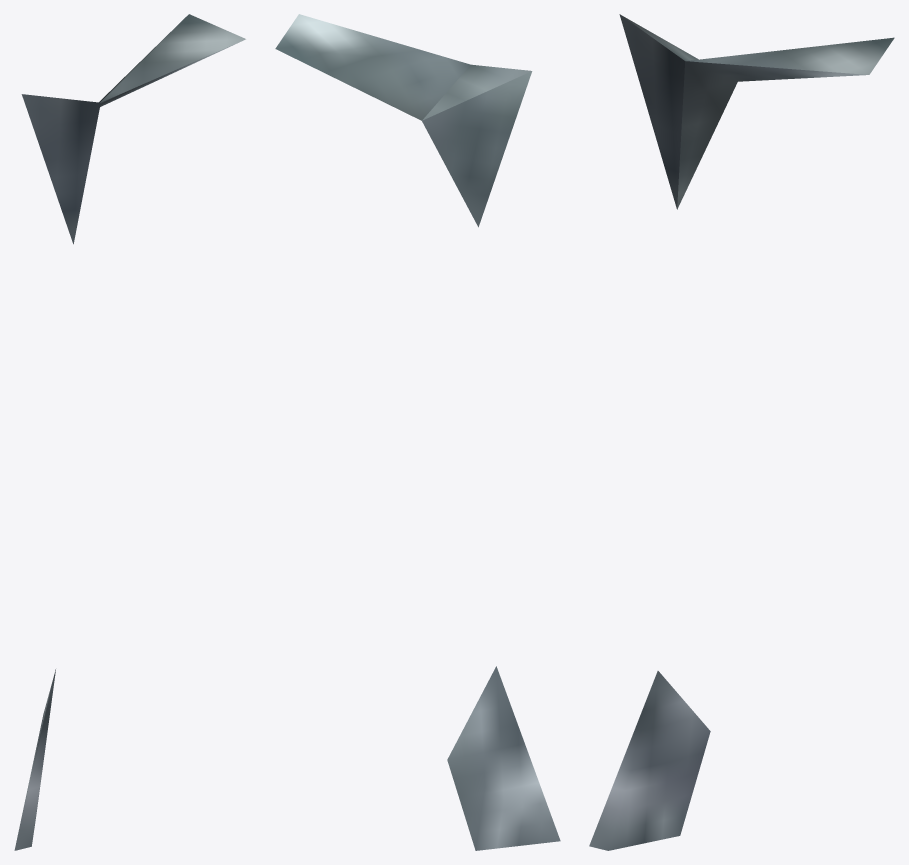
3 views of the same model, side by side, from view 1: azimuth 30°, elevation 25°; view 2: azimuth 150°, elevation 25°; view 3: azimuth 330°, elevation 25° (orthographic). The views are drawn at different scales.
Parts seen in each view (by area): view 1: 30436272704361506507_0; view 2: 30436272704361506507_0; view 3: 30436272704361506507_0.
Boxes of the visible parts, x1=… form: 30436272704361506507_0: x1=14, y1=14, x2=245, y2=850; 30436272704361506507_0: x1=275, y1=14, x2=560, y2=850; 30436272704361506507_0: x1=589, y1=14, x2=894, y2=850.
Size of the model in its own units: 2.15 by 6.32 by 0.7717.
1 material, 1 textured.
